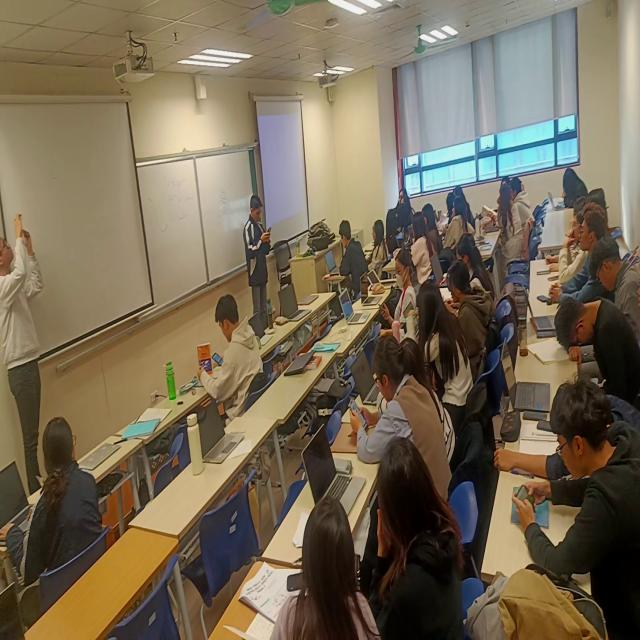raise_head: (547, 199, 613, 313), (557, 209, 591, 292), (408, 212, 437, 285), (440, 190, 473, 252), (367, 219, 393, 274), (585, 186, 607, 214), (574, 197, 590, 220), (400, 194, 413, 212), (399, 187, 409, 208)
sleep: (554, 289, 640, 401)
stand: (1, 204, 45, 514), (239, 187, 276, 342)
using_computer: (443, 228, 498, 325), (323, 216, 371, 305)
using_phone: (500, 369, 640, 640), (192, 286, 271, 423), (377, 247, 421, 346), (560, 167, 592, 212)
